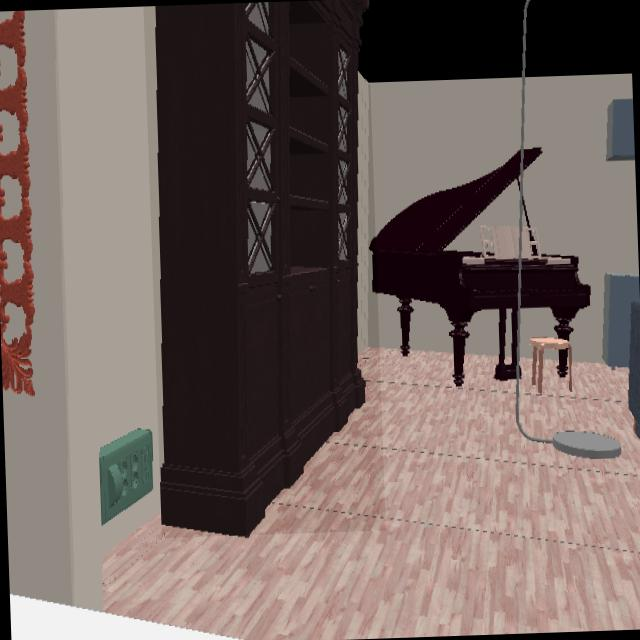bookshelf: (158, 0, 366, 535)
